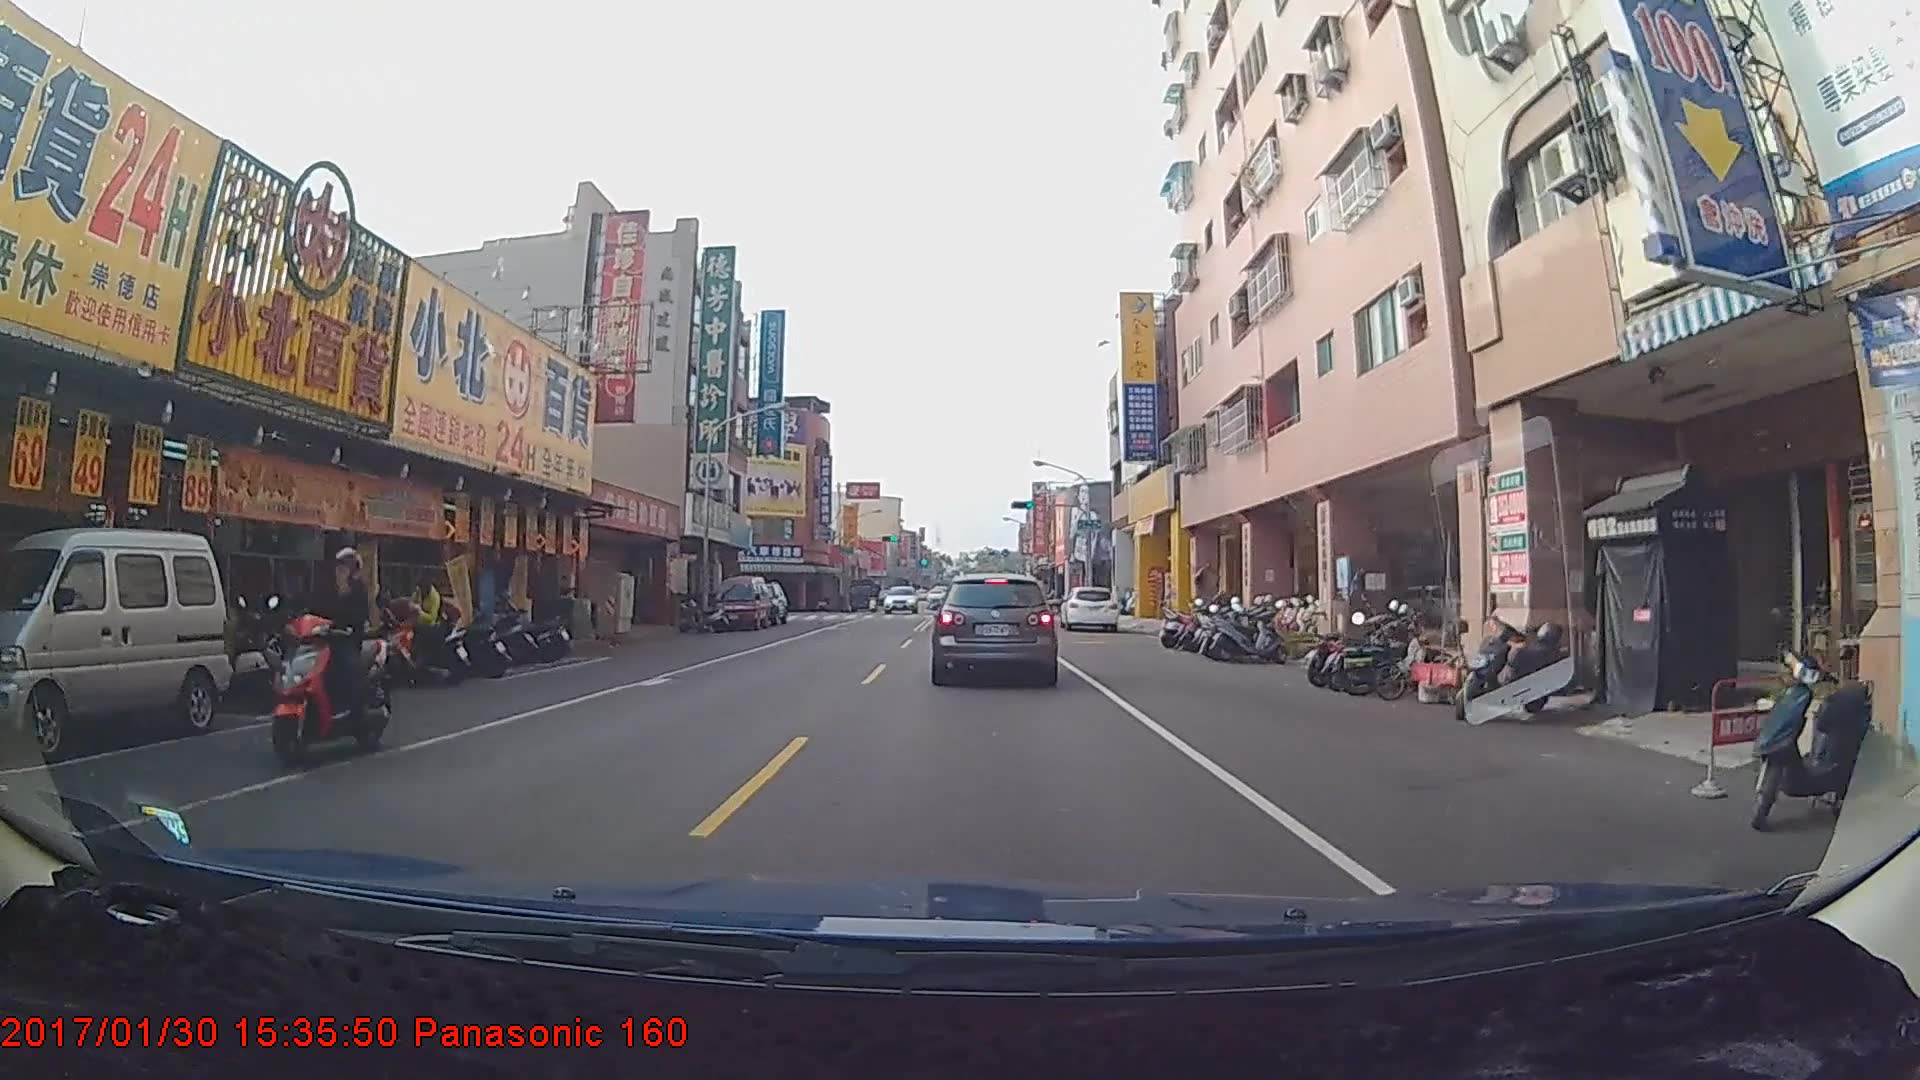pedestrian: (400, 571, 442, 673)
rider: (264, 547, 394, 771)
vehicle: (0, 523, 228, 751), (932, 573, 1057, 683), (712, 571, 771, 628), (1060, 585, 1119, 634), (881, 582, 920, 615)
